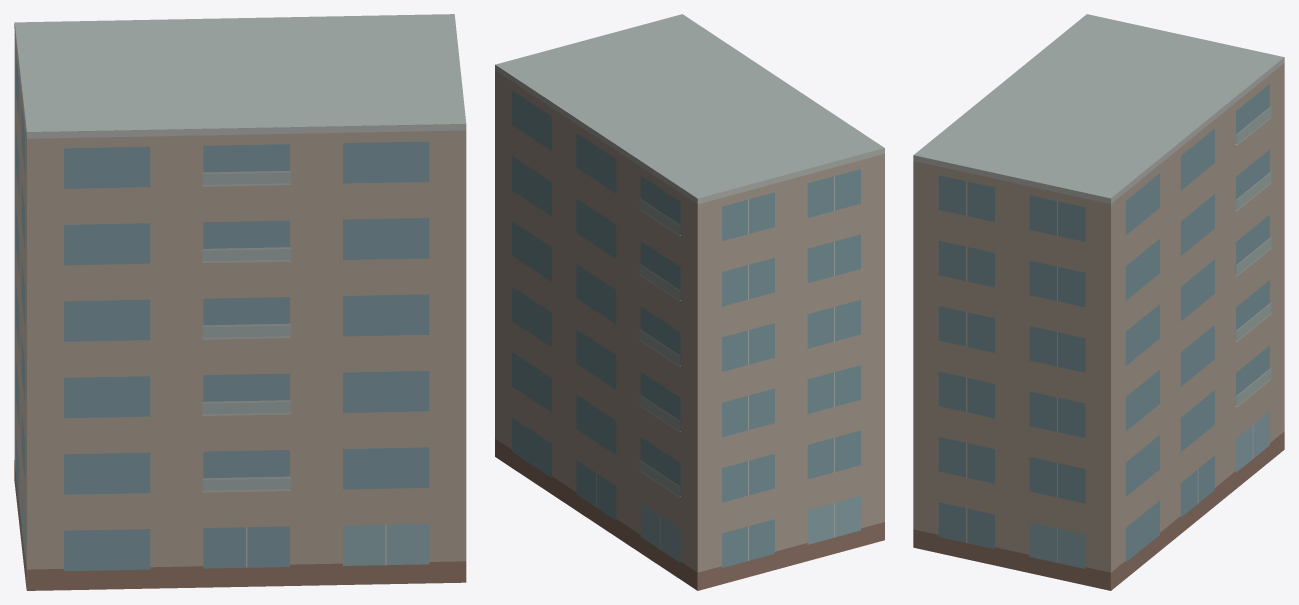
File: survey-upis-32996399.glb
3 renders of one model, left to right at view 1: azimuth 30°, elevation 25°; view 2: azimuth 150°, elevation 25°; view 3: azimuth 270°, elevation 25°, orthographic. The views are drawn at different scales.
Visible parts, largest first — view 1: survey-upis-32996399.tmp; view 2: survey-upis-32996399.tmp; view 3: survey-upis-32996399.tmp.
Part boxes in pixels (x1,y1,x2,y2): survey-upis-32996399.tmp: (14, 14, 466, 590); survey-upis-32996399.tmp: (495, 14, 884, 590); survey-upis-32996399.tmp: (913, 14, 1284, 590).
Size of the model in its own units: 16.94 by 16.8 by 14.41.
